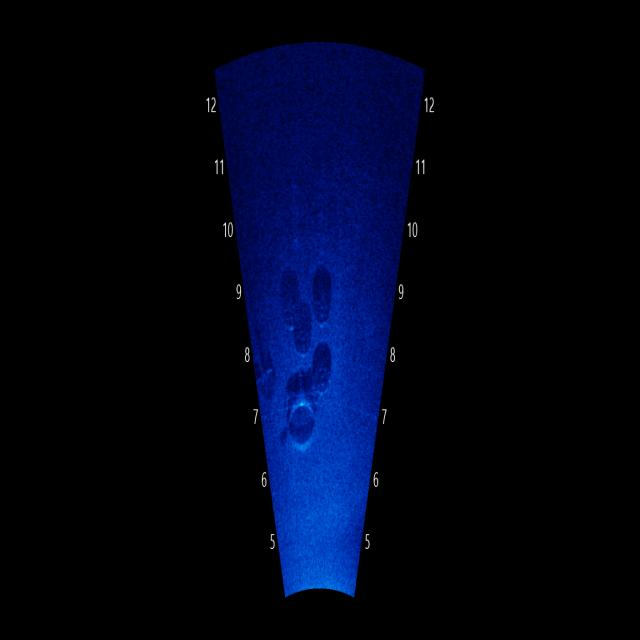circle: (281, 381, 324, 466), (274, 268, 306, 342), (311, 342, 340, 406), (306, 268, 334, 330), (293, 300, 319, 360)
